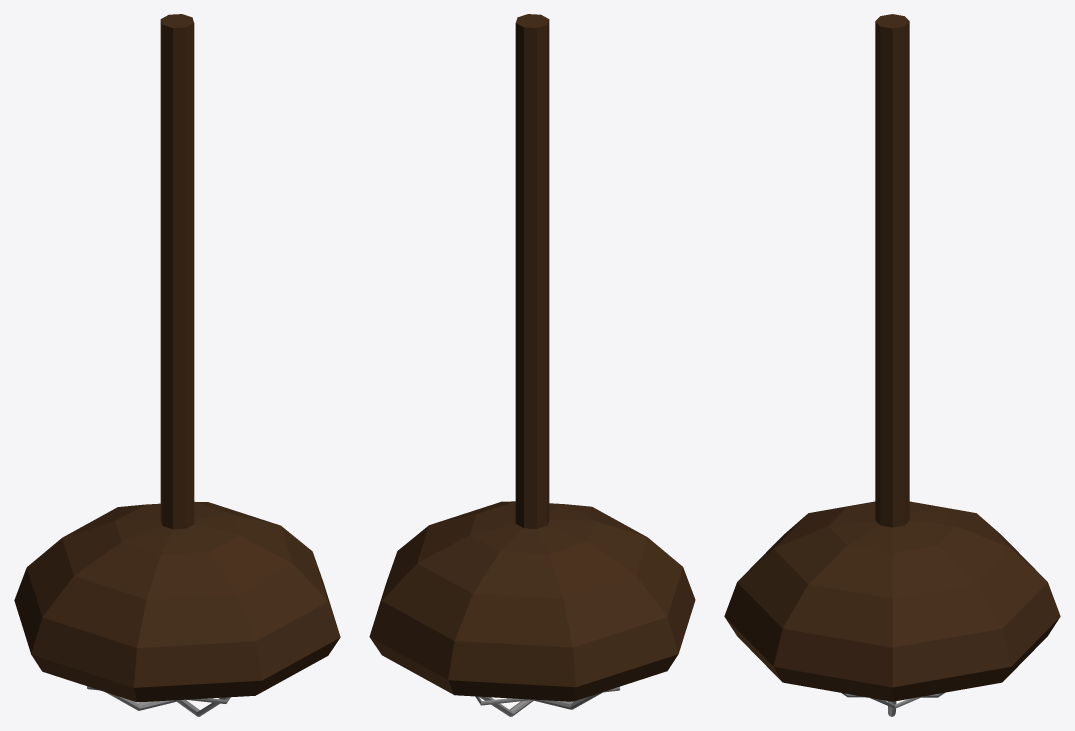
The model's file is PendantLight.gltf.
The picture shows the model from 3 angles, left to right: view 1: azimuth 30°, elevation 25°; view 2: azimuth 150°, elevation 25°; view 3: azimuth 270°, elevation 25°; orthographic projection.
Parts seen in each view (by area): view 1: 天ライトオリジン; view 2: 天ライトオリジン; view 3: 天ライトオリジン.
Boxes of the visible parts, x1,y1,x2,y2 form: 天ライトオリジン: [14, 14, 340, 716]; 天ライトオリジン: [369, 14, 695, 716]; 天ライトオリジン: [724, 14, 1060, 716].
Bounding box in the file's own units: 2 × 4.44 × 2.
